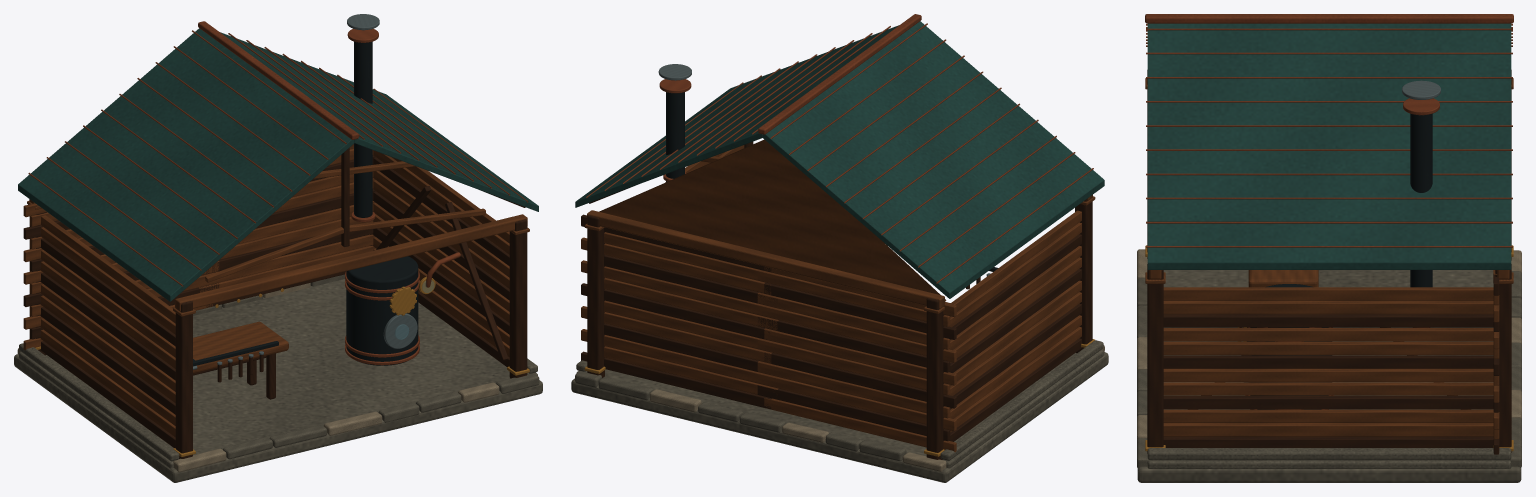
File: asset.glb
3 views of the same model, side by side, from view 1: azimuth 30°, elevation 25°; view 2: azimuth 150°, elevation 25°; view 3: azimuth 270°, elevation 25° (orthographic). The views are drawn at different scales.
Parts seen in each view (by area): view 1: MaterialBatch_Oxidised_copper_roofing, MaterialBatch_Quarter-sawn_oak, MaterialBatch_Mottled_fieldstone, MaterialBatch_Smoke-stained_walnut, MaterialBatch_Weathered_copper, MaterialBatch_Forged_blue-black_iron, MaterialBatch_Warm_lime_mortar, MaterialBatch_Brushed_steel, MaterialBatch_Aged_brass; view 2: MaterialBatch_Quarter-sawn_oak, MaterialBatch_Oxidised_copper_roofing, MaterialBatch_Smoke-stained_walnut, MaterialBatch_Mottled_fieldstone, MaterialBatch_Weathered_copper, MaterialBatch_Warm_lime_mortar, MaterialBatch_Forged_blue-black_iron; view 3: MaterialBatch_Oxidised_copper_roofing, MaterialBatch_Quarter-sawn_oak, MaterialBatch_Smoke-stained_walnut, MaterialBatch_Mottled_fieldstone, MaterialBatch_Weathered_copper, MaterialBatch_Forged_blue-black_iron, MaterialBatch_Warm_lime_mortar, MaterialBatch_Brushed_steel.
Part boxes in pixels (x1,y1,x2,y2): MaterialBatch_Oxidised_copper_roofing: (18, 28, 538, 301); MaterialBatch_Quarter-sawn_oak: (23, 144, 529, 437); MaterialBatch_Mottled_fieldstone: (14, 274, 542, 482); MaterialBatch_Smoke-stained_walnut: (23, 148, 527, 458); MaterialBatch_Weathered_copper: (28, 21, 528, 365); MaterialBatch_Forged_blue-black_iron: (193, 41, 418, 366); MaterialBatch_Warm_lime_mortar: (17, 283, 499, 472); MaterialBatch_Brushed_steel: (193, 14, 417, 369); MaterialBatch_Aged_brass: (35, 276, 529, 457); MaterialBatch_Quarter-sawn_oak: (581, 139, 1095, 452); MaterialBatch_Oxidised_copper_roofing: (575, 21, 1104, 298); MaterialBatch_Smoke-stained_walnut: (581, 141, 1092, 459); MaterialBatch_Mottled_fieldstone: (571, 340, 1108, 482); MaterialBatch_Weathered_copper: (586, 14, 1093, 283); MaterialBatch_Warm_lime_mortar: (650, 345, 1104, 471); MaterialBatch_Forged_blue-black_iron: (666, 92, 998, 271); MaterialBatch_Oxidised_copper_roofing: (1147, 23, 1511, 269); MaterialBatch_Quarter-sawn_oak: (1145, 78, 1513, 439); MaterialBatch_Smoke-stained_walnut: (1147, 70, 1511, 454); MaterialBatch_Mottled_fieldstone: (1137, 270, 1521, 482); MaterialBatch_Weathered_copper: (1145, 14, 1513, 409); MaterialBatch_Forged_blue-black_iron: (1247, 113, 1432, 409); MaterialBatch_Warm_lime_mortar: (1137, 249, 1521, 439); MaterialBatch_Brushed_steel: (1244, 80, 1440, 382).
Size of the model in its own units: 25.5 by 19.92 by 19.25.
10 materials, 10 textured.
